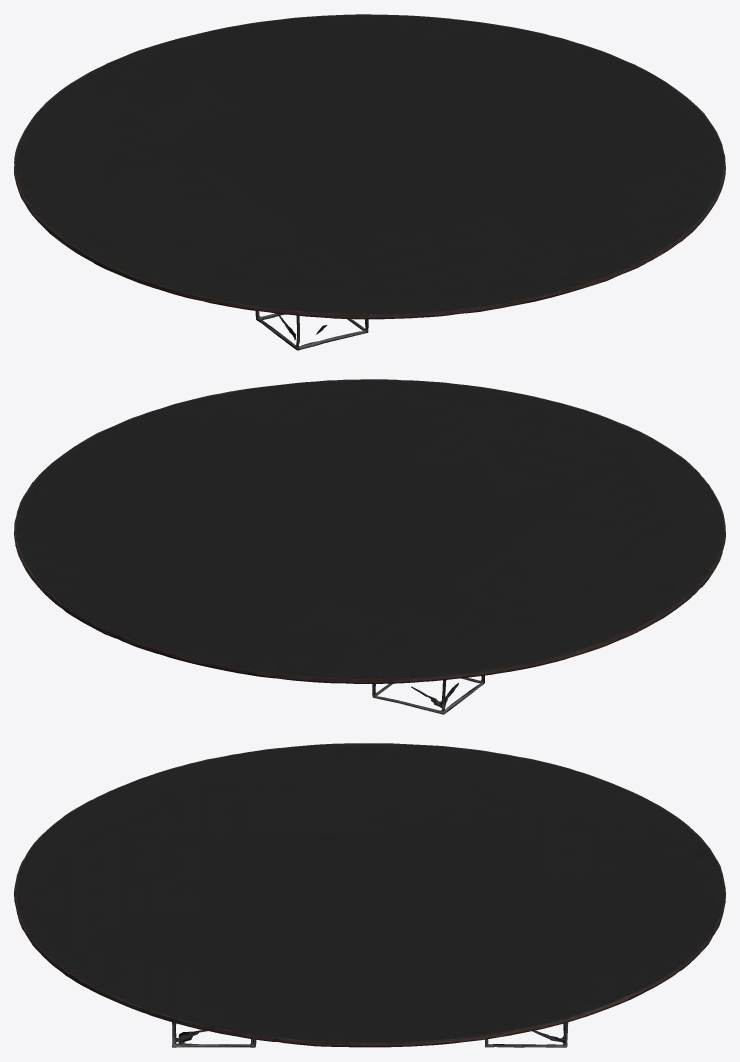
Rendered from 347df168-c31b-4455-9791-ff206e52abe2.glb.
3 renders of one model, top to bottom at view 1: azimuth 30°, elevation 25°; view 2: azimuth 150°, elevation 25°; view 3: azimuth 270°, elevation 25°, orthographic.
Parts seen in each view (by area): view 1: world; view 2: world; view 3: world.
Boxes of the visible parts, x1,y1,x2,y2 form: world: (14,14,725,350); world: (14,379,725,714); world: (14,743,725,1047).
Size of the model in its own units: 1 by 0.1116 by 1.
1 material, 1 textured.
